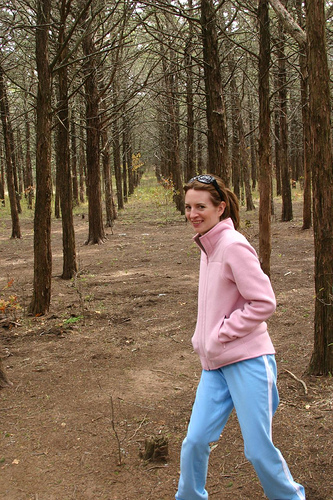without_mask: (182, 184, 226, 234)
